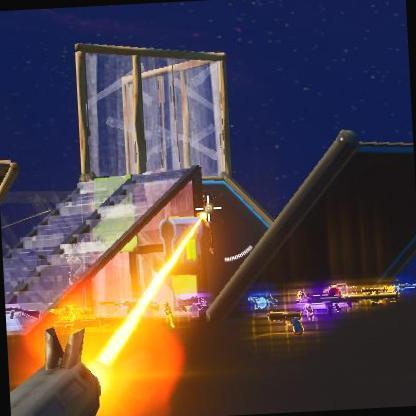person: (200, 189, 218, 253)
